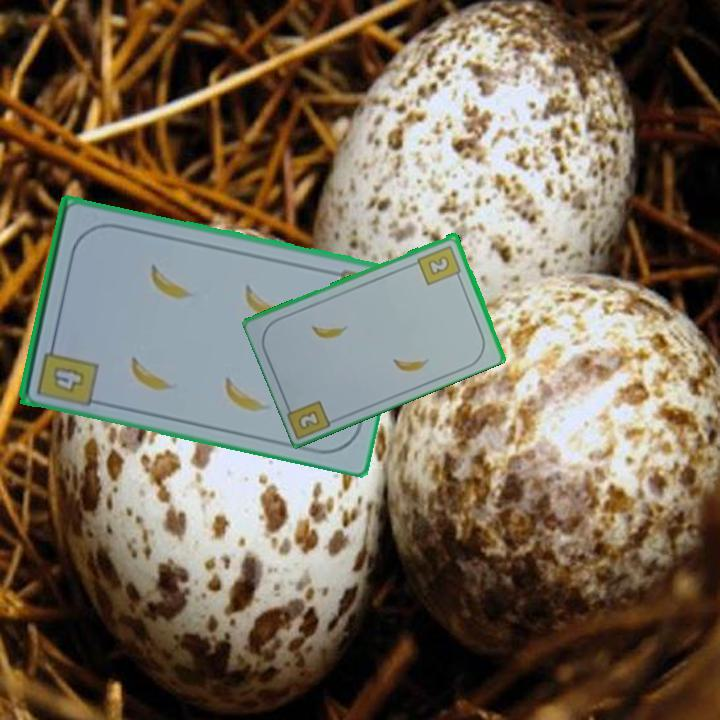2b: (414, 242, 464, 288), (294, 406, 323, 432)
4b: (33, 335, 100, 406)
